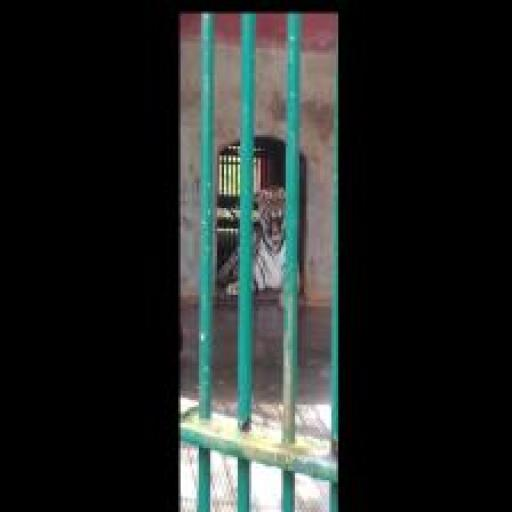Tiger: (217, 167, 303, 308)
